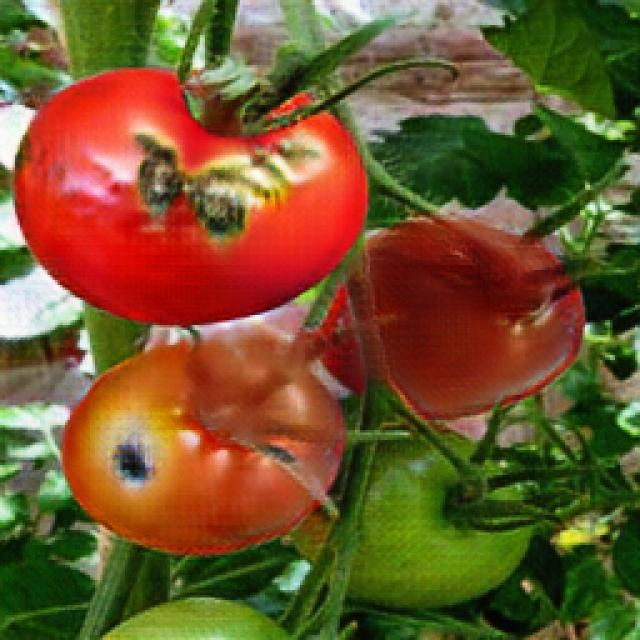overripe tomato: (9, 70, 377, 330), (61, 343, 343, 550)
